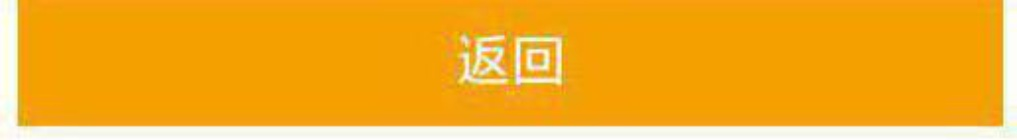Button: (1, 1, 1016, 139)
